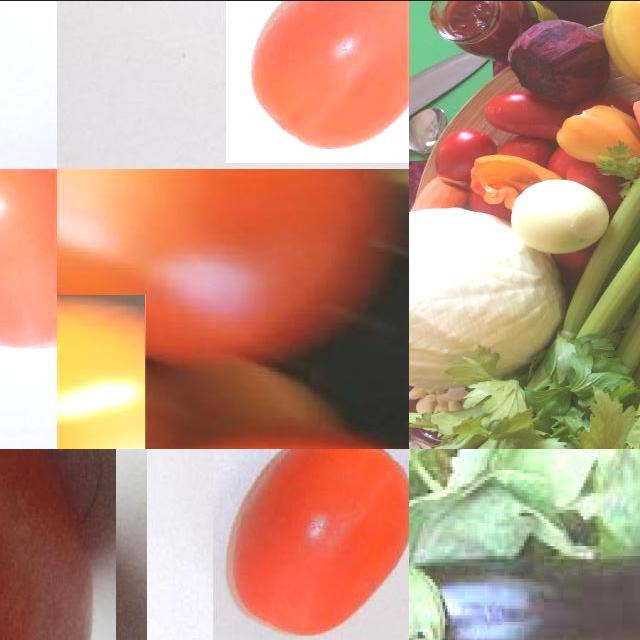bell_pepper: (609, 1, 640, 95)
cabbage: (410, 203, 570, 389)
eggplant: (410, 560, 640, 640)
garlic: (410, 379, 472, 414)
onion: (504, 178, 612, 251)
tomato: (58, 169, 410, 367), (213, 449, 410, 640), (227, 1, 410, 163), (1, 169, 58, 358), (478, 91, 571, 138), (424, 130, 491, 188)
